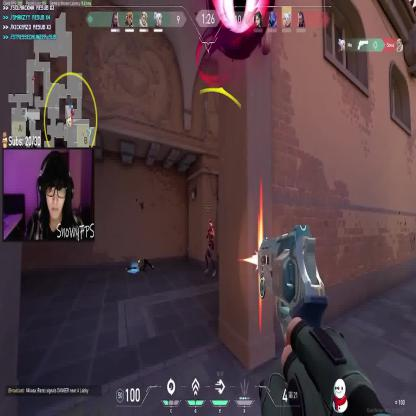enemy: (205, 220, 216, 277)
enemy_head: (208, 222, 214, 230)
